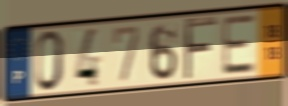0: (34, 29, 66, 94)
4: (71, 27, 104, 90)
6: (148, 20, 179, 81)
7: (110, 24, 141, 85)
E: (220, 12, 258, 78)
F: (182, 15, 220, 83)
